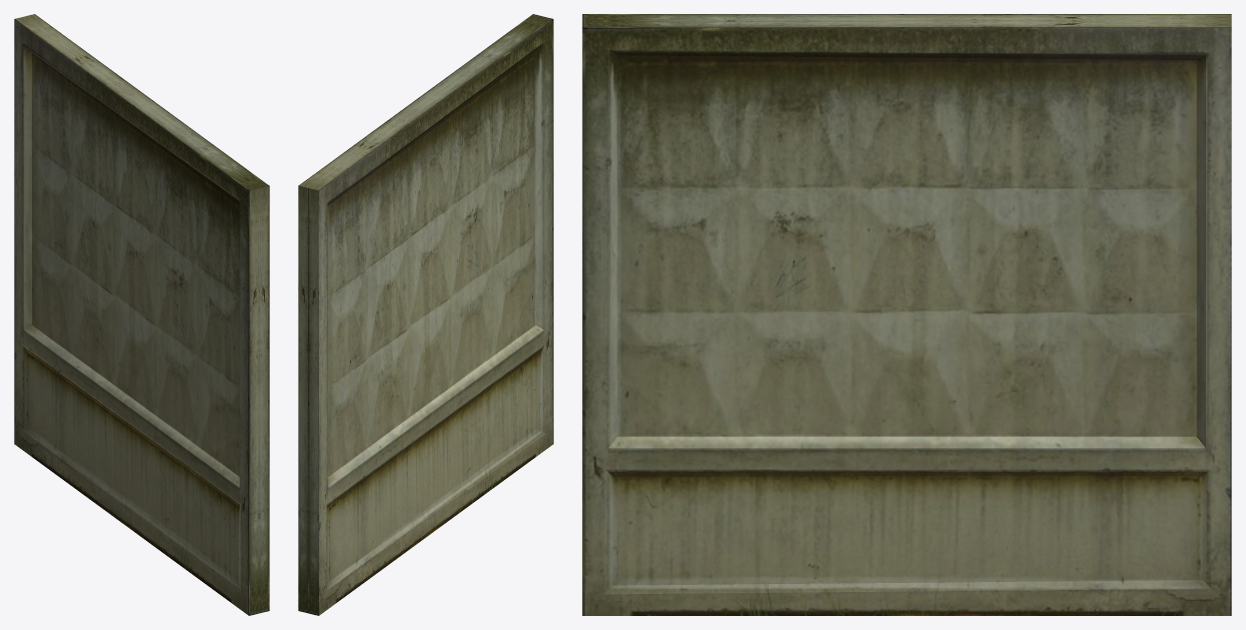
The model's file is fence01.fbx.
The picture shows the model from 3 angles, left to right: view 1: azimuth 30°, elevation 25°; view 2: azimuth 150°, elevation 25°; view 3: azimuth 270°, elevation 25°; orthographic projection. The views are drawn at different scales.
Visible parts, largest first — view 1: Cube.001, Cube.002; view 2: Cube.001, Cube.002; view 3: Cube.002, Cube.001.
Part boxes in pixels (x1,y1,x2,y2): Cube.001: [14, 16, 259, 615]; Cube.002: [25, 14, 269, 613]; Cube.001: [308, 16, 553, 615]; Cube.002: [298, 14, 543, 613]; Cube.002: [582, 20, 1231, 615]; Cube.001: [582, 14, 1231, 21].
Bounding box in the file's own units: 20.09 × 400 × 400.
